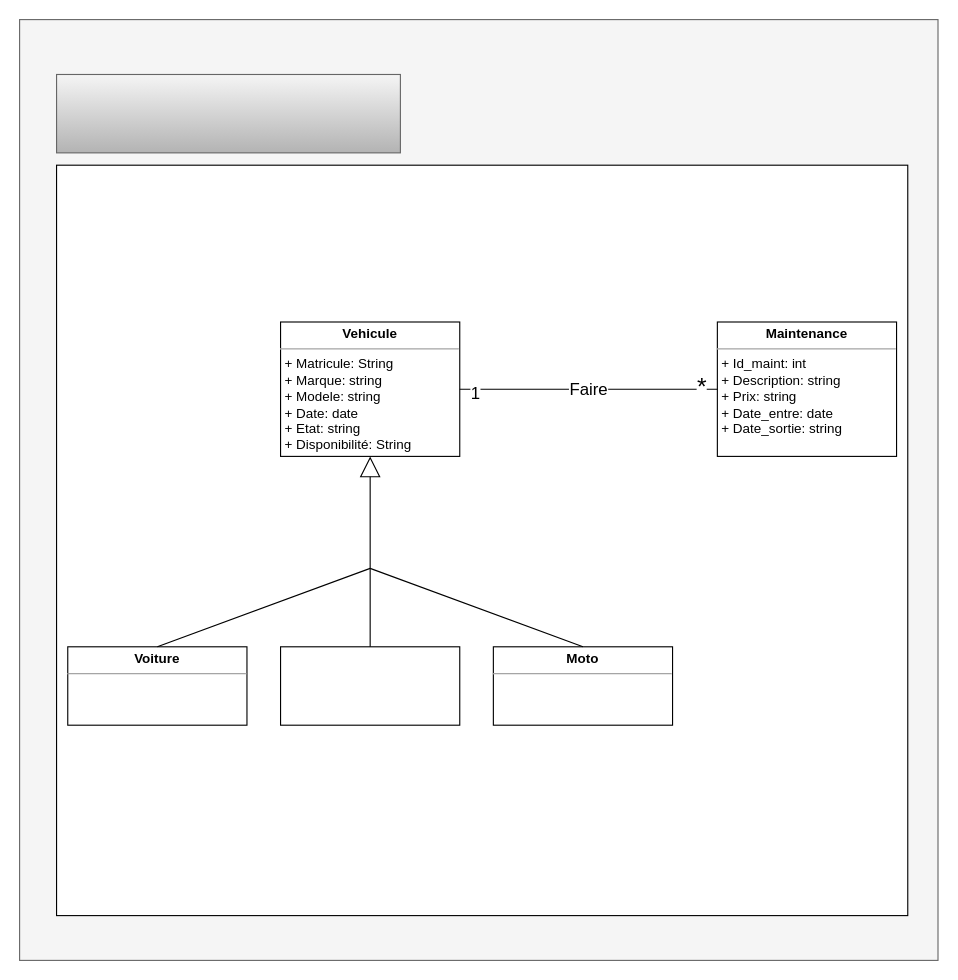
Some shapes in this 958 by 980 pixel diagram are drawn without their labels. The shapes that lost their labels are listed below. From the top down, each one's centre as x and y in pixels, then its label:
point (227, 113): GESTION DES VOITURES
point (369, 685): Camion
